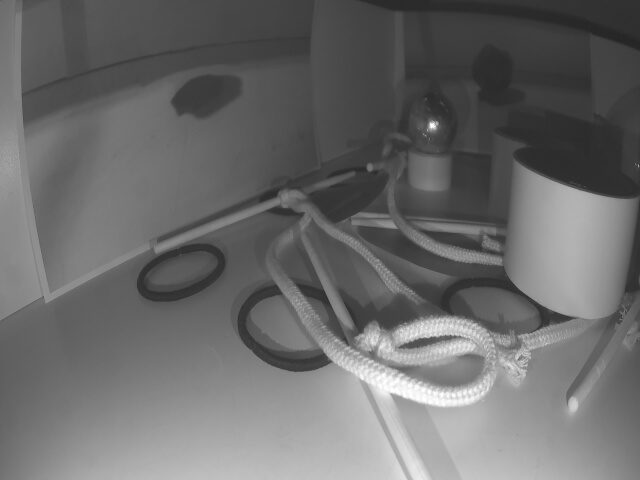Live: (411, 93, 461, 156)
